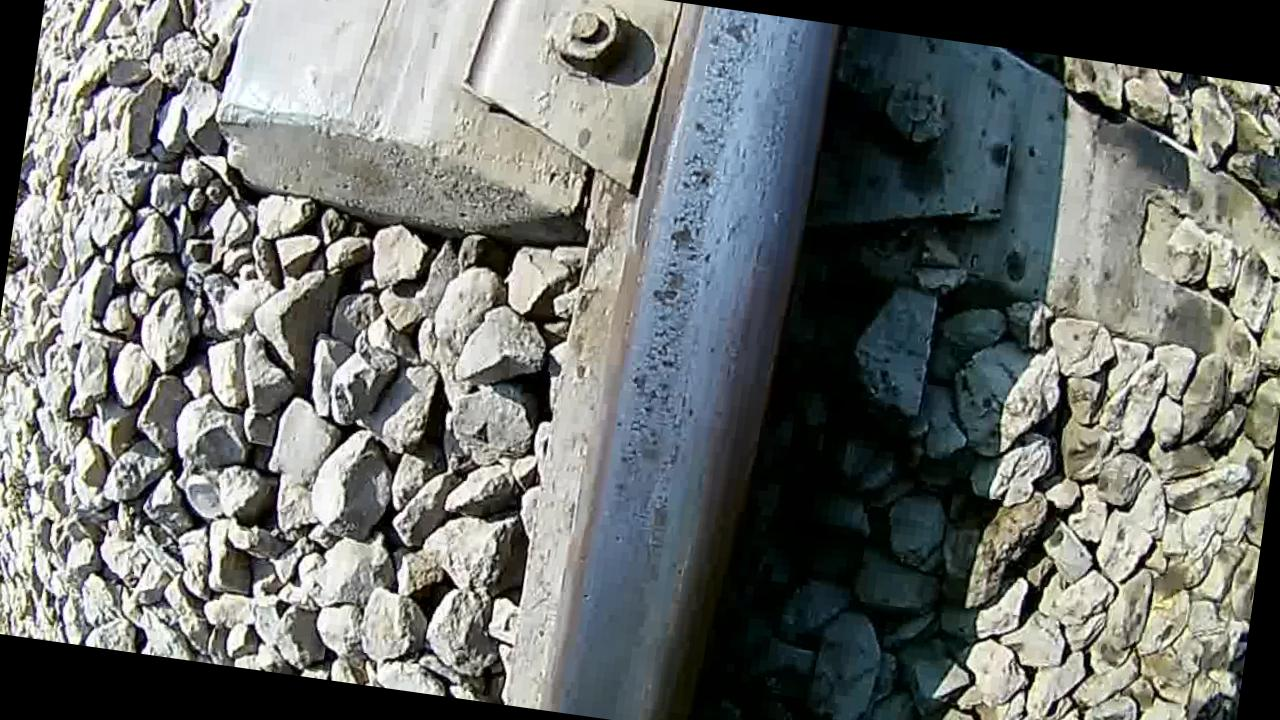crack: (565, 0, 836, 720)
